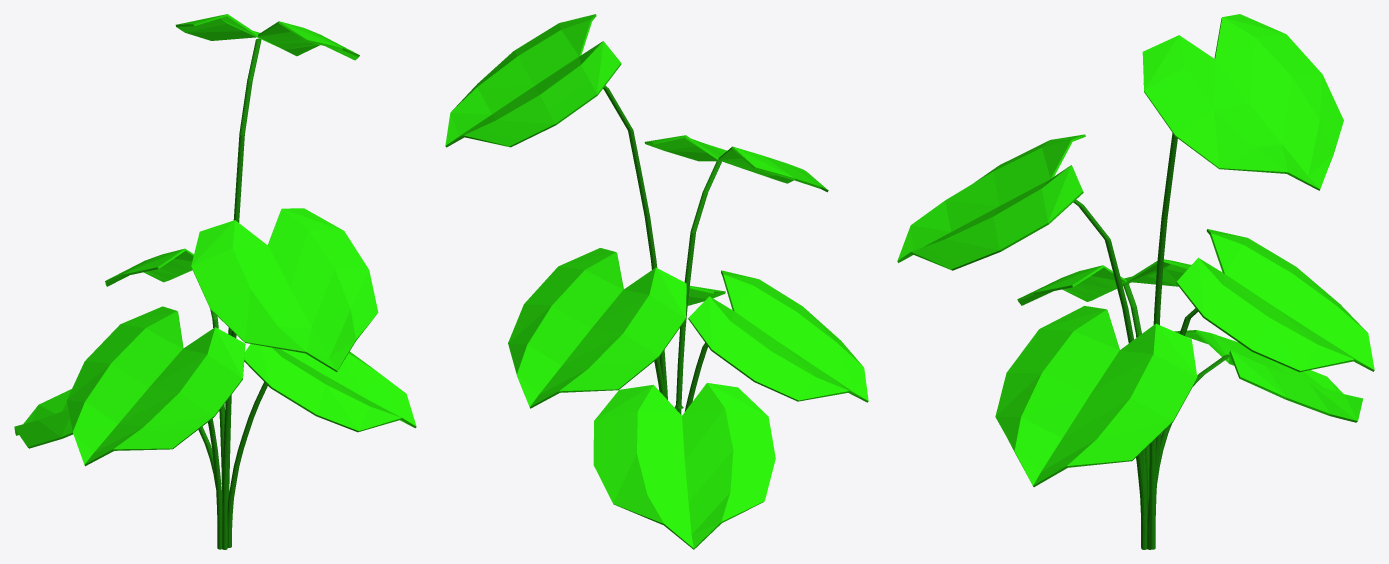
Rendered from plant_01.fbx.
3 views of the same model, side by side, from view 1: azimuth 30°, elevation 25°; view 2: azimuth 150°, elevation 25°; view 3: azimuth 270°, elevation 25° (orthographic). The views are drawn at different scales.
Visible parts, largest first — view 1: Plane003; view 2: Plane003; view 3: Plane003.
Boxes of the visible parts, x1,y1,x2,y2 form: Plane003: (14, 14, 416, 549); Plane003: (445, 14, 868, 549); Plane003: (897, 14, 1374, 549).
Size of the model in its own units: 48.78 by 70.29 by 55.14.
